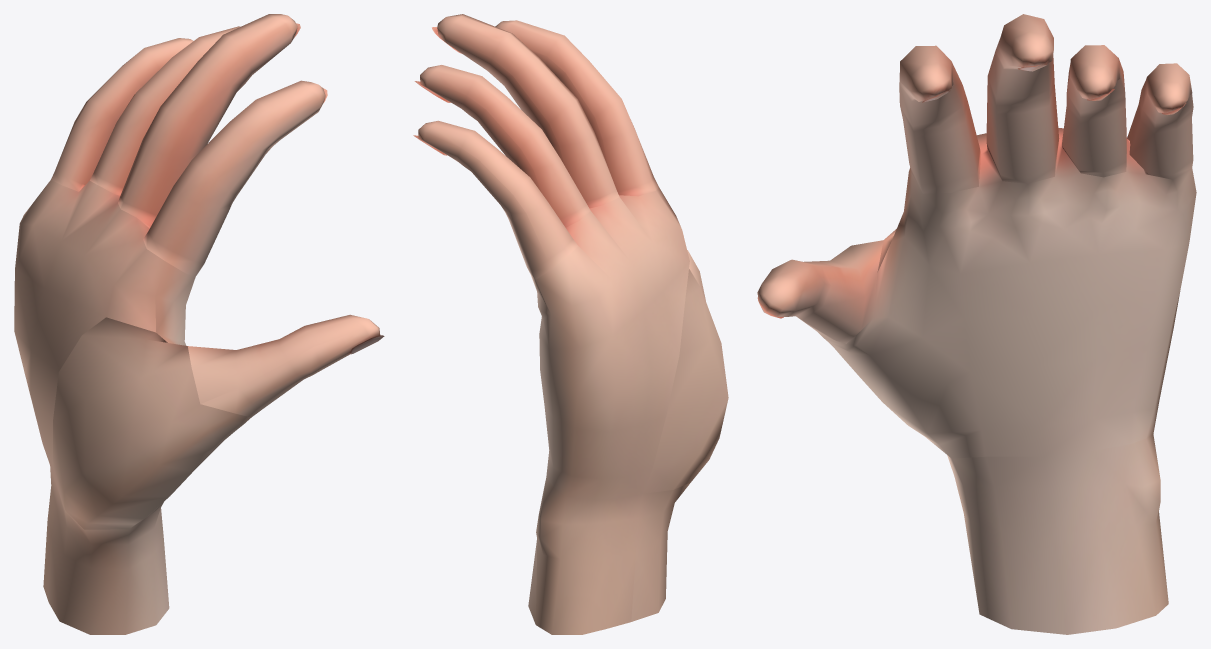
Rendered from FirstPersonHand.glb.
3 renders of one model, left to right at view 1: azimuth 30°, elevation 25°; view 2: azimuth 150°, elevation 25°; view 3: azimuth 270°, elevation 25°, orthographic. The views are drawn at different scales.
Visible parts, largest first — view 1: FirstPersonHand; view 2: FirstPersonHand; view 3: FirstPersonHand.
Part boxes in pixels (x1,y1,x2,y2): FirstPersonHand: (14, 14, 384, 634); FirstPersonHand: (413, 14, 728, 634); FirstPersonHand: (757, 14, 1196, 634).
Size of the model in its own units: 0.0686 by 0.1413 by 0.0845.
Materials: 1 (1 with a texture image).
